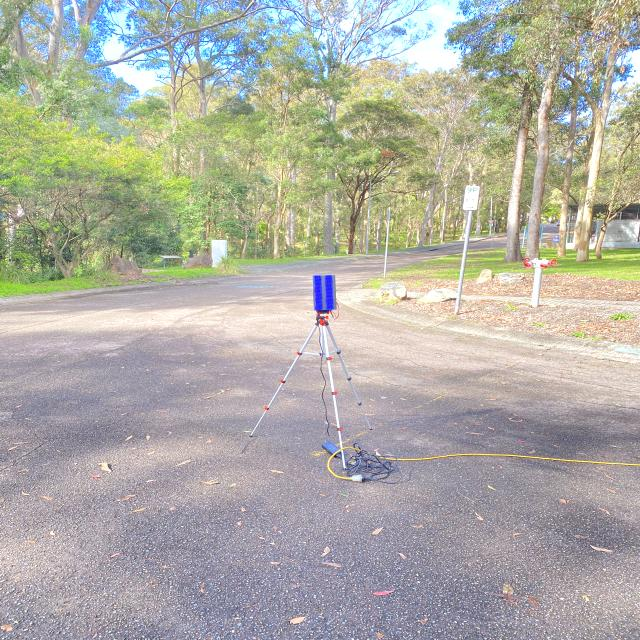matrix: (309, 270, 345, 320)
